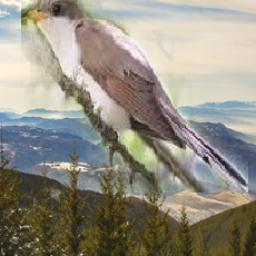Cuckoo: (21, 0, 248, 193)
